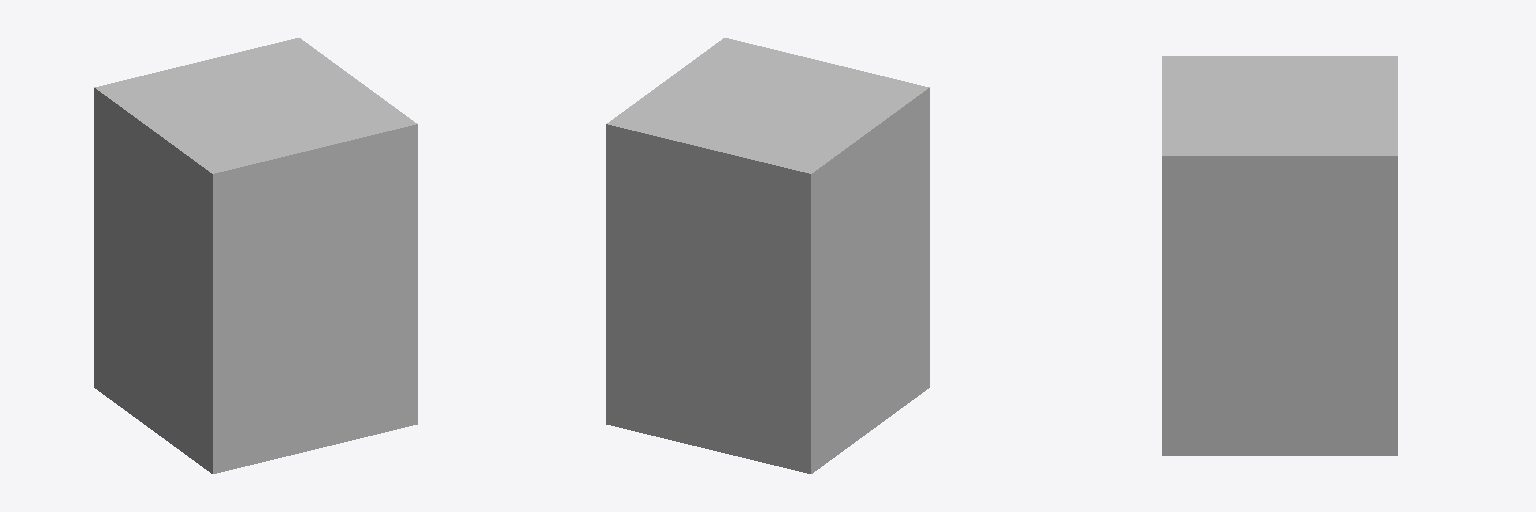
The model's file is lixeira.obj.
3 renders of one model, left to right at view 1: azimuth 30°, elevation 25°; view 2: azimuth 150°, elevation 25°; view 3: azimuth 270°, elevation 25°, orthographic.
Visible parts, largest first — view 1: Block, Block1; view 2: Block, Block1; view 3: Block, Block1.
Part boxes in pixels (bbox=[...]): Block: bbox=[94, 109, 417, 473]; Block1: bbox=[94, 38, 417, 194]; Block: bbox=[606, 109, 929, 473]; Block1: bbox=[606, 38, 929, 194]; Block: bbox=[1162, 177, 1397, 455]; Block1: bbox=[1162, 56, 1397, 176].
Size of the model in its own units: 0.625 by 0.875 by 0.625.